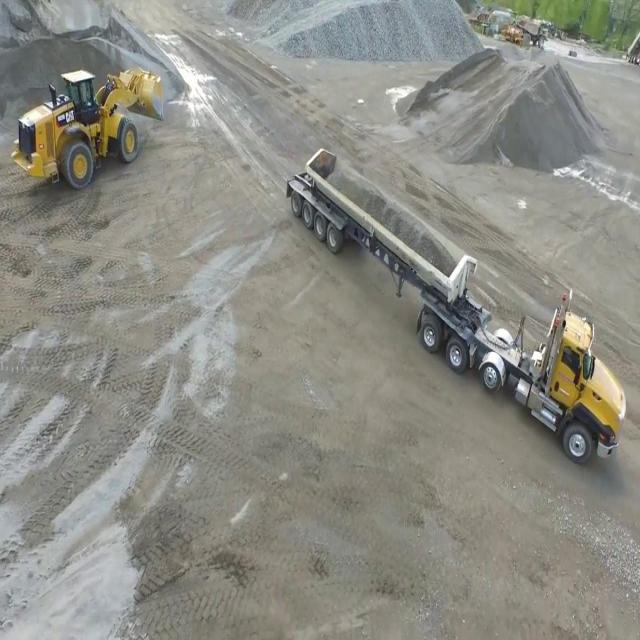Dump Truck: (284, 145, 628, 468)
Loader: (10, 62, 164, 196)
